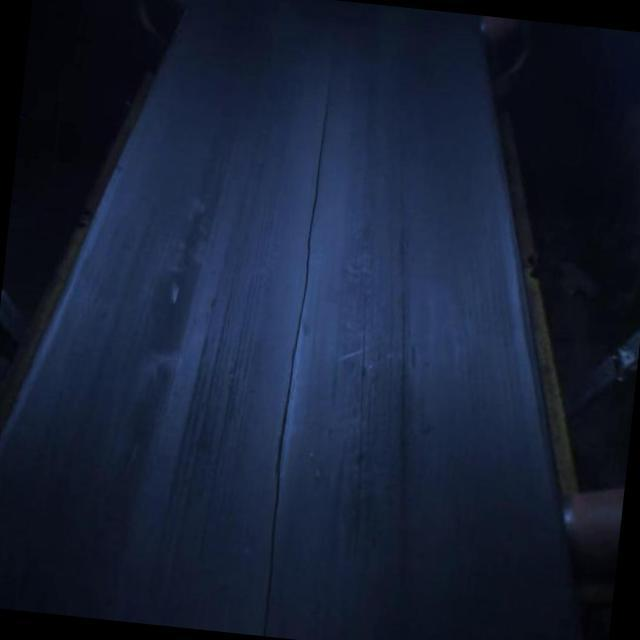Tear: (253, 82, 339, 636)
